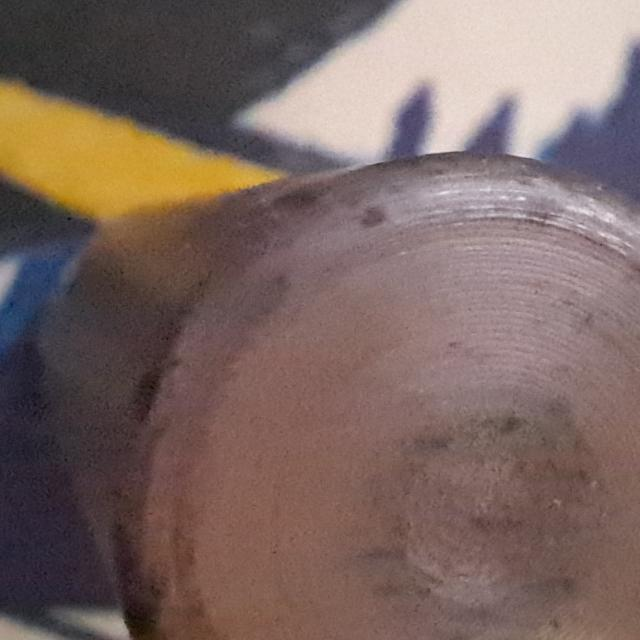planson: (30, 153, 640, 640)
